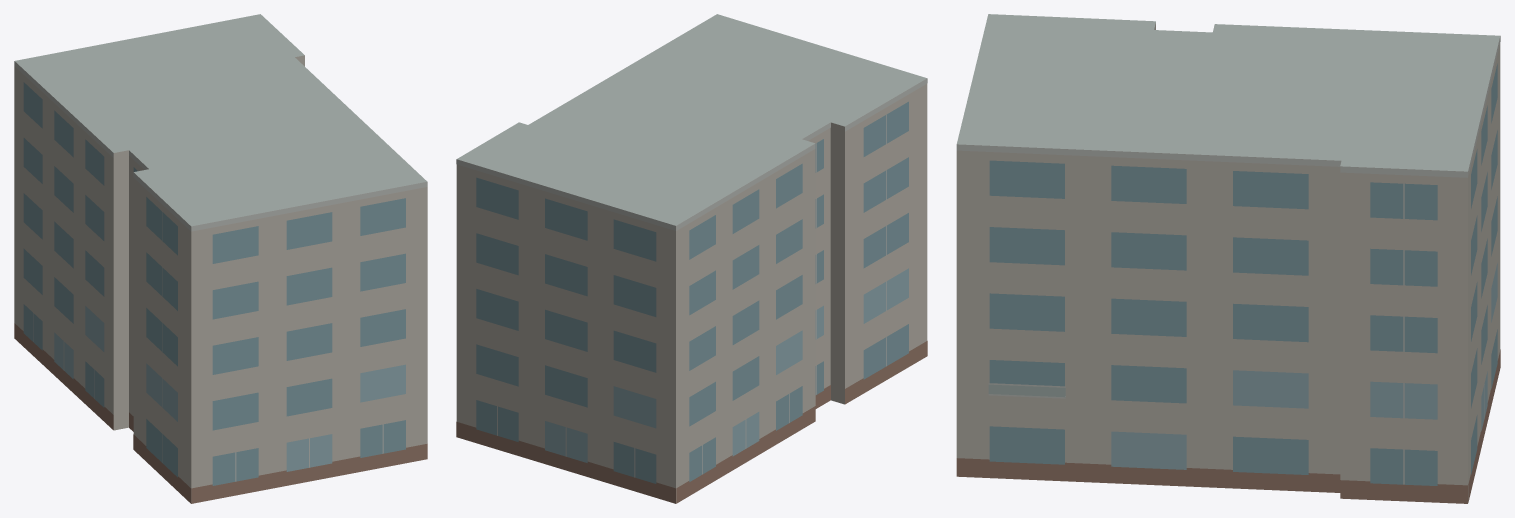
File: survey-upis-32681521.glb
3 views of the same model, side by side, from view 1: azimuth 30°, elevation 25°; view 2: azimuth 150°, elevation 25°; view 3: azimuth 270°, elevation 25° (orthographic). The views are drawn at different scales.
Visible parts, largest first — view 1: survey-upis-32681521.tmp; view 2: survey-upis-32681521.tmp; view 3: survey-upis-32681521.tmp.
Boxes of the visible parts, left/top/right/bottom form: survey-upis-32681521.tmp: left=14, top=14, right=427, bottom=503; survey-upis-32681521.tmp: left=456, top=14, right=927, bottom=503; survey-upis-32681521.tmp: left=956, top=14, right=1500, bottom=503.
Size of the model in its own units: 13.3 by 13.06 by 19.38.
